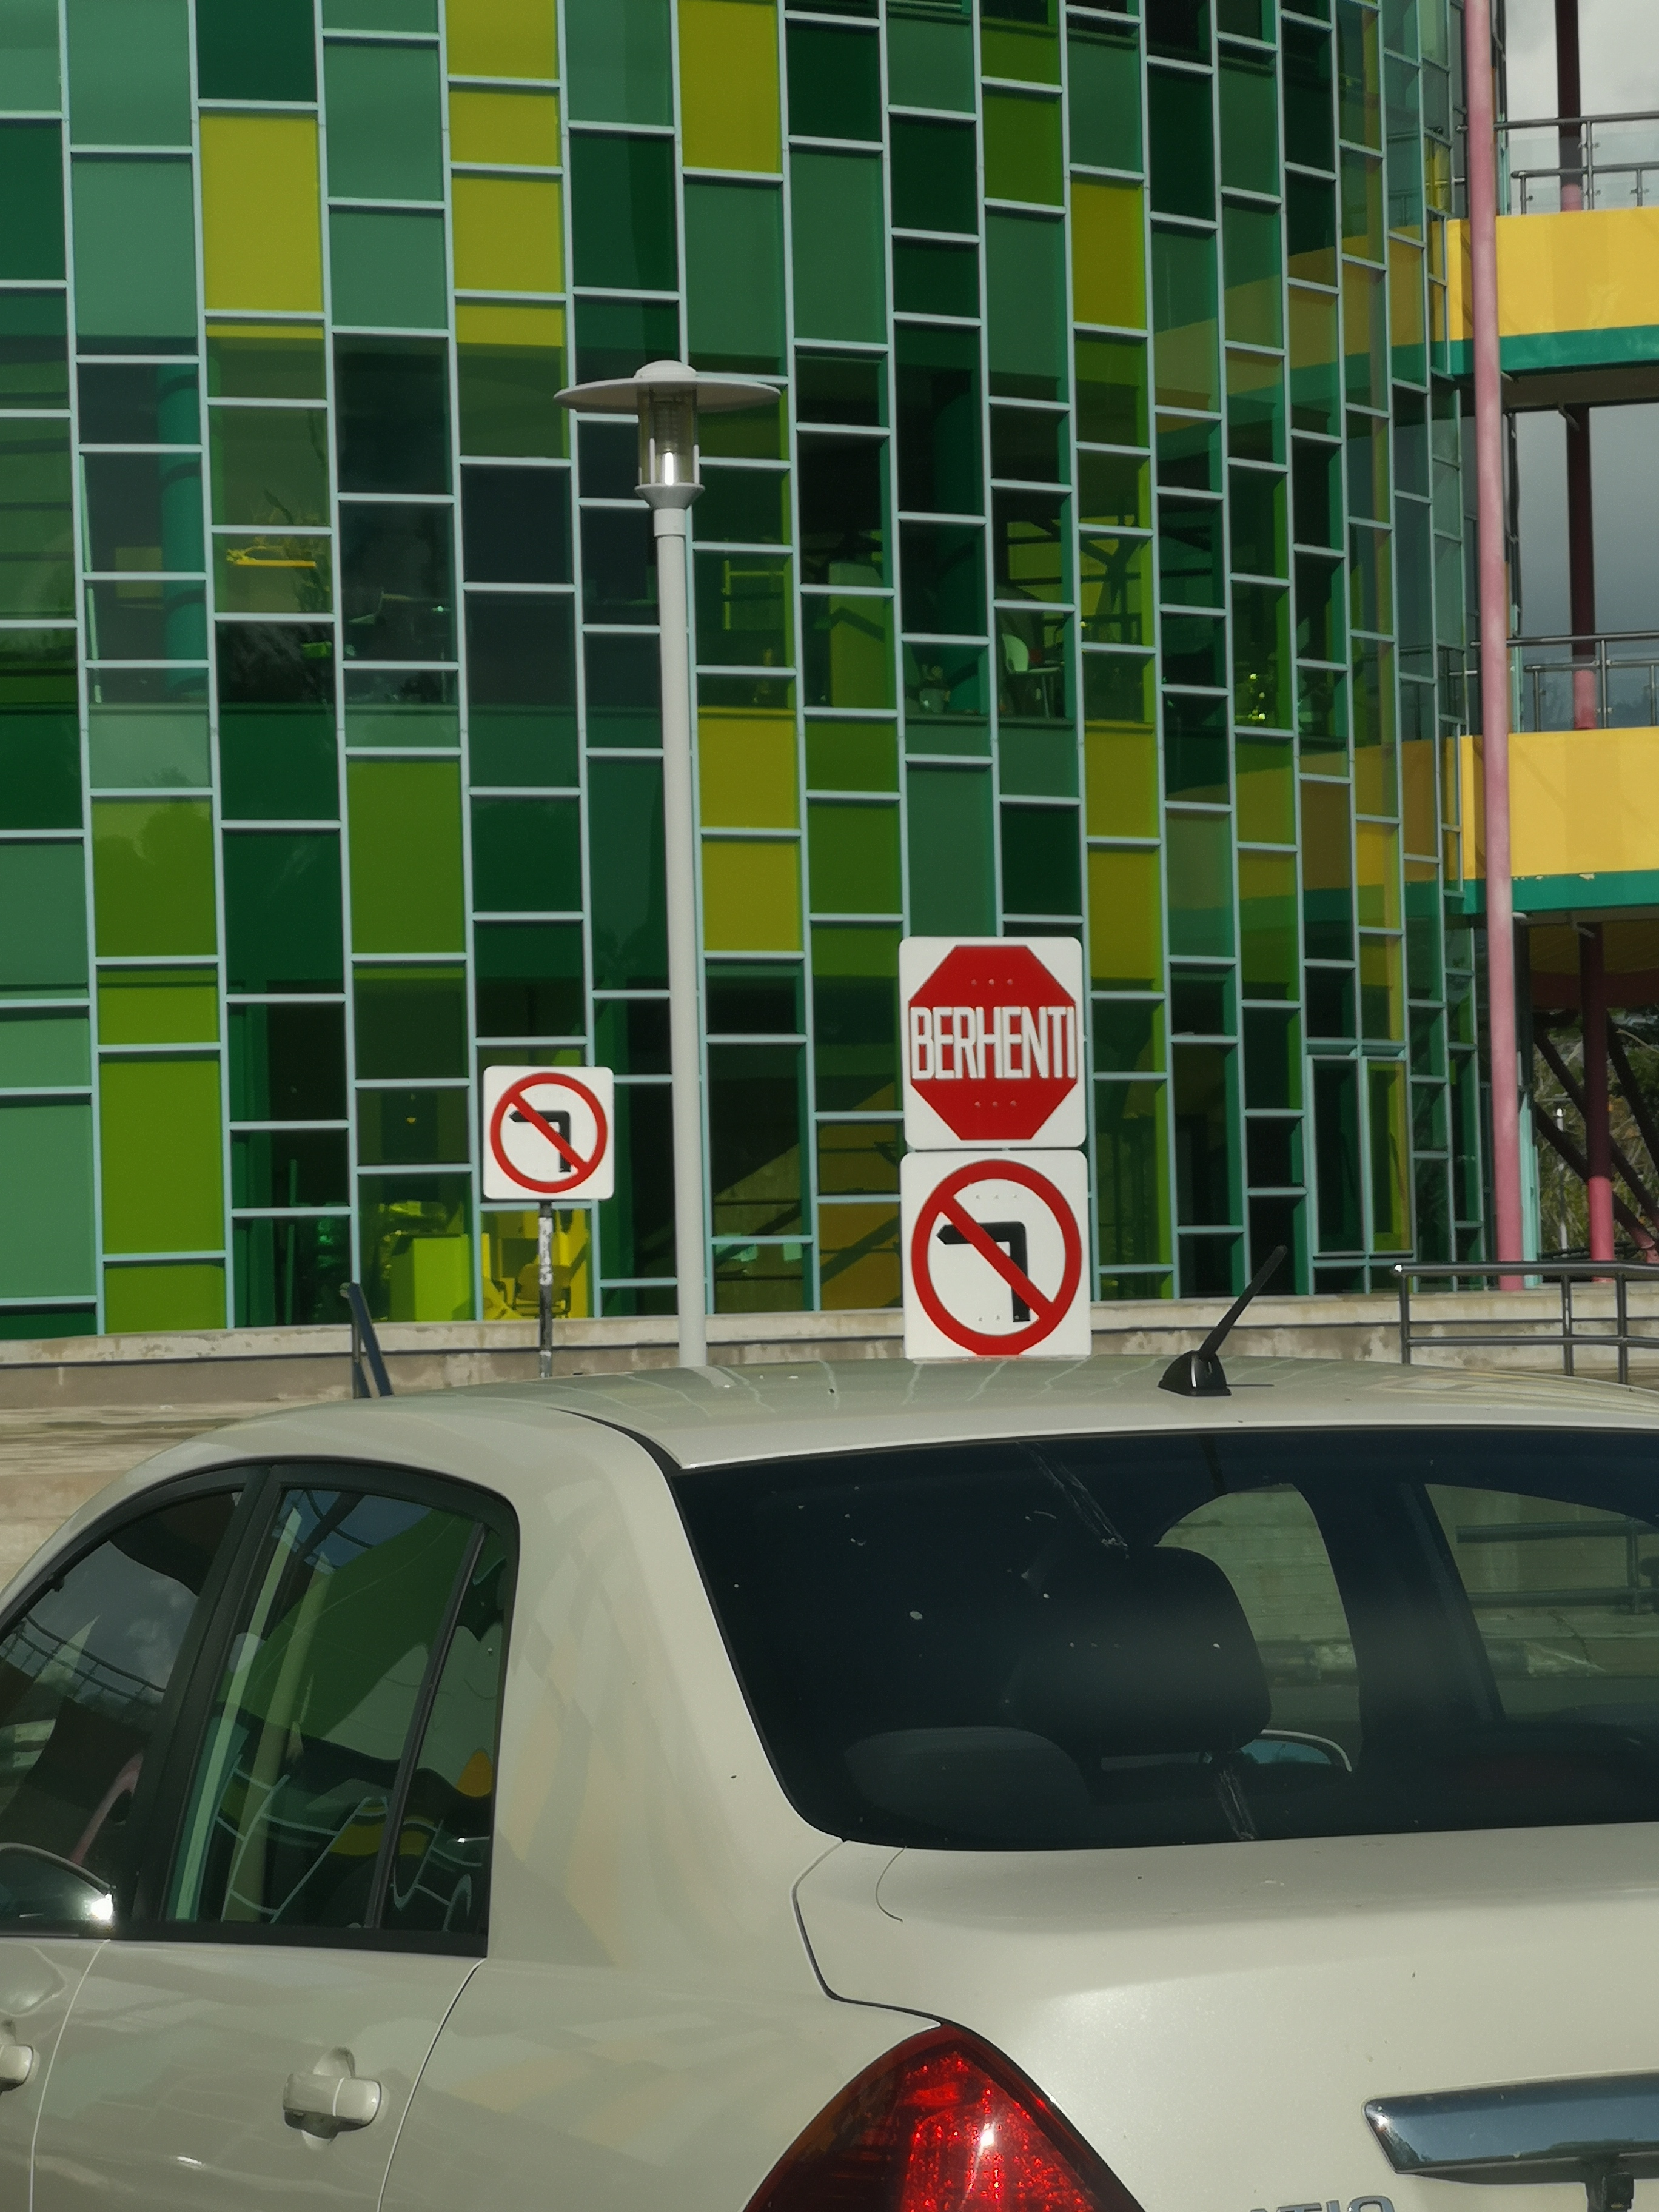no left turn: (890, 1163, 1098, 1371), (476, 1064, 624, 1207)
stop: (901, 932, 1100, 1157)
